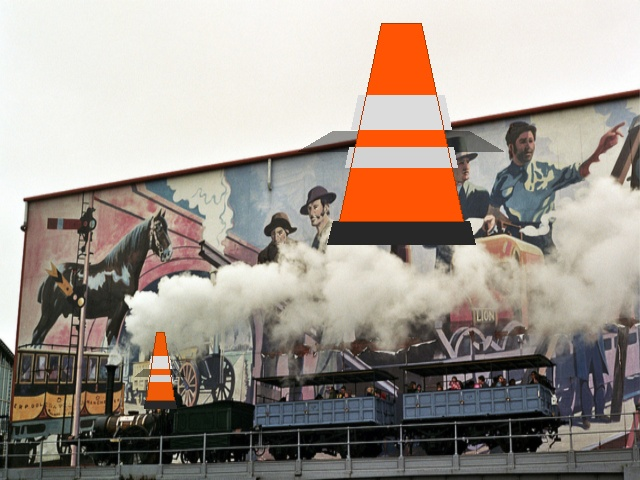traffic-cone: (327, 23, 475, 244), (144, 332, 176, 408)
